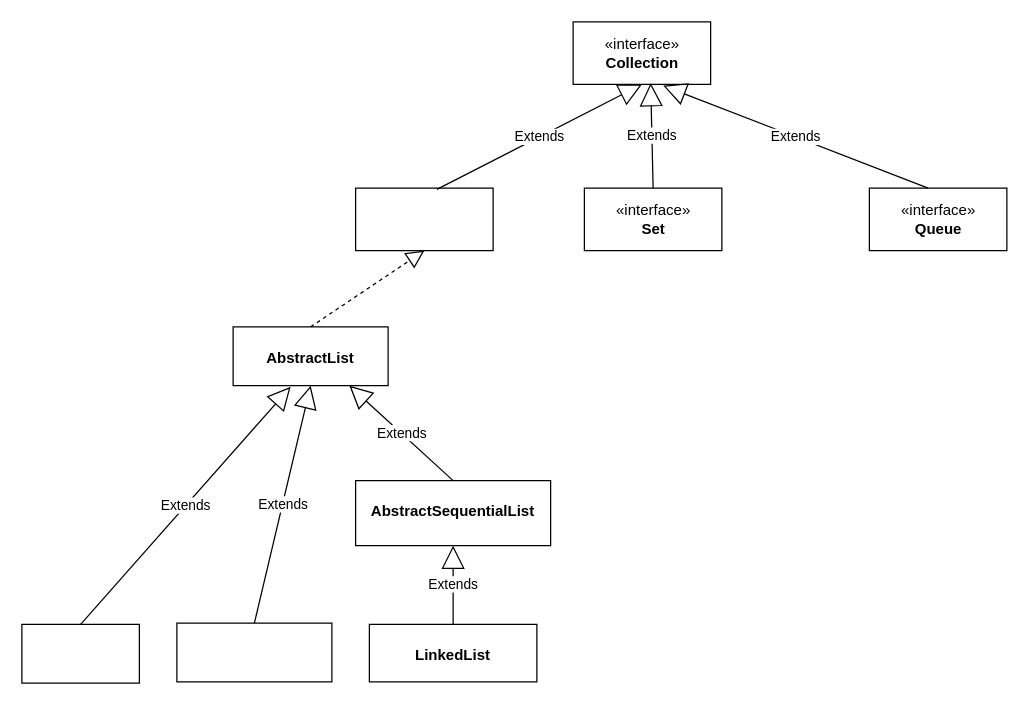
The diagram is 1029 pixels wide and 705 high, and some of its shapes have lost their labels. Each missing label, with the centre of its shape:
ArrayList: the point at 254,652
Vector: the point at 80,653
«interface» List: the point at 423,219
